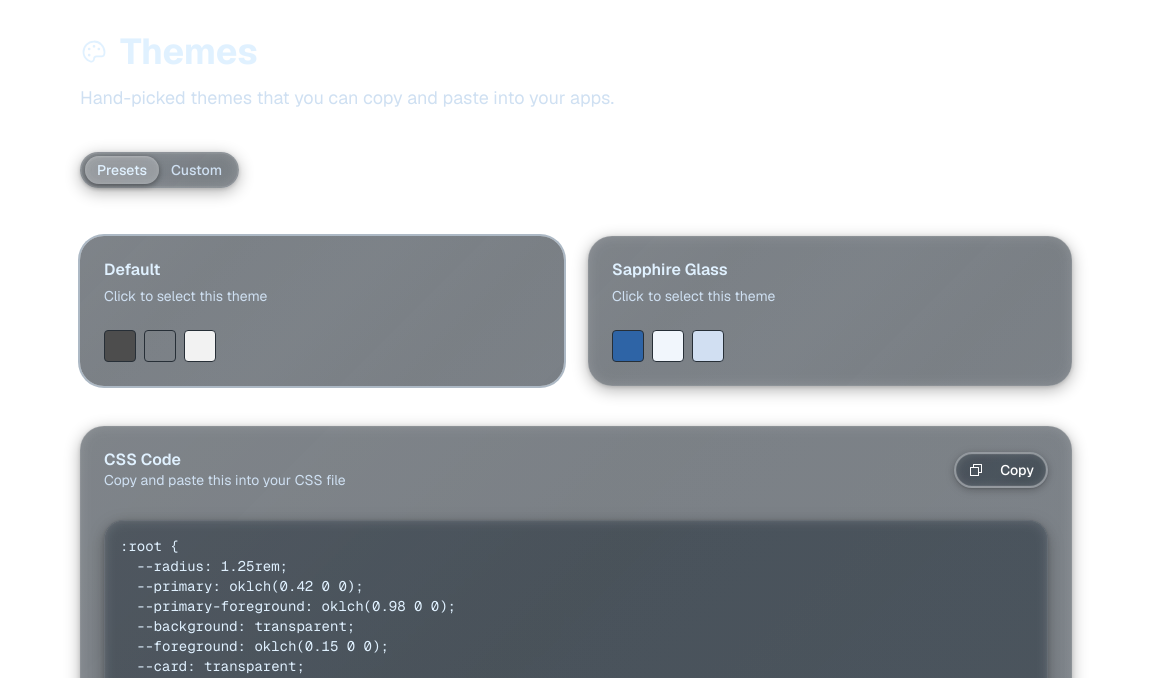
Theme editor color controls › keeps authored OKLCH in the text field and provides hex to the native picker
Press the mouse on the tab "Custom" at (196, 170), box [159,156,234,184]
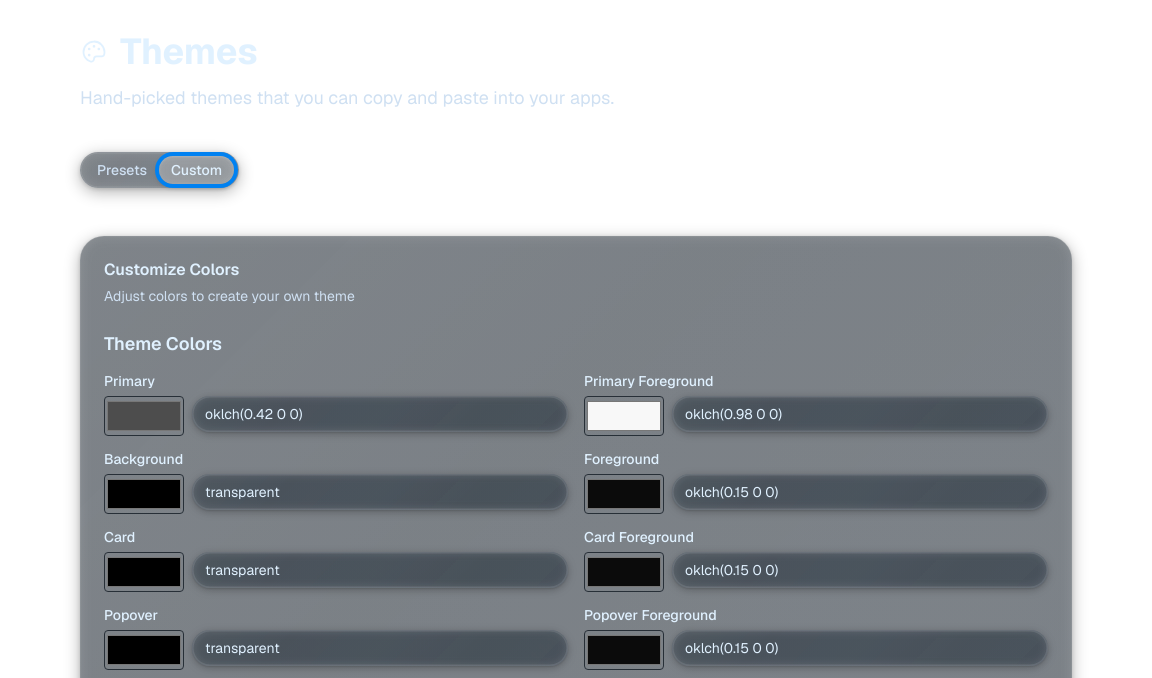
Expected: the colour field named "primary color picker" does not hold "#000000", [104,396,184,436]
